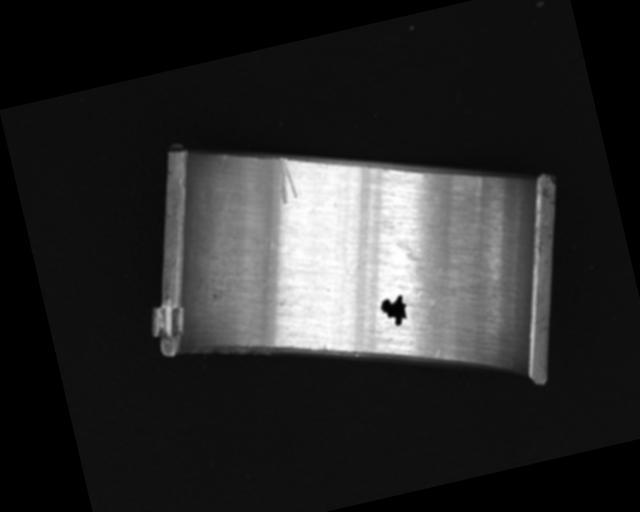blot: (377, 292, 412, 330)
nick: (270, 155, 300, 205), (218, 152, 228, 169)
